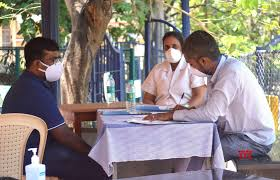mask: (25, 36, 64, 83), (183, 28, 218, 79), (162, 31, 183, 65)
